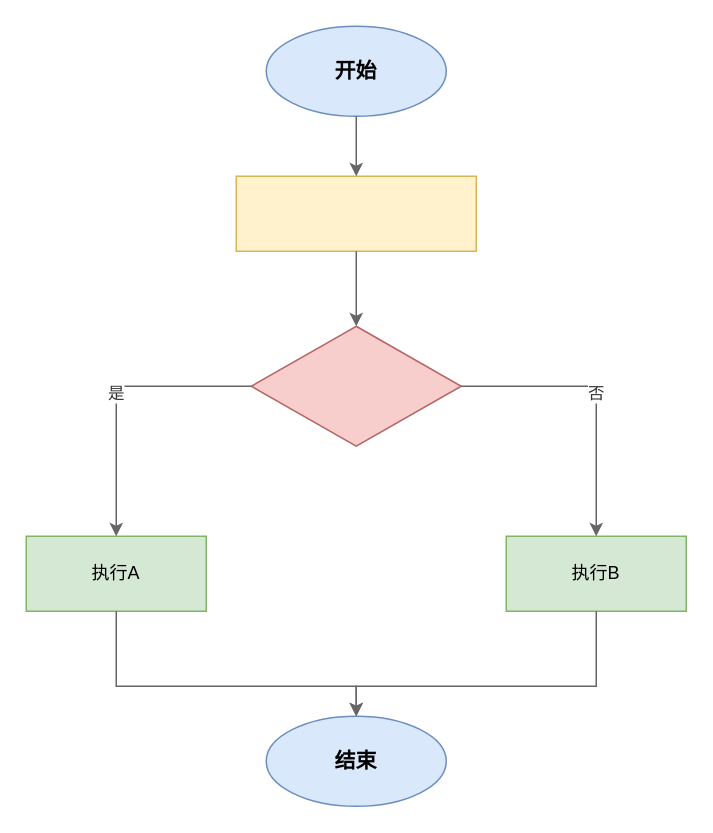
Some shapes in this 713 by 833 pixel diagram are drawn without their labels. Here are the shapes that lost their labels. From the top down, the centre of each, then its label:
At point 355,213: "步骤一".
At point 355,385: "条件判断?".
